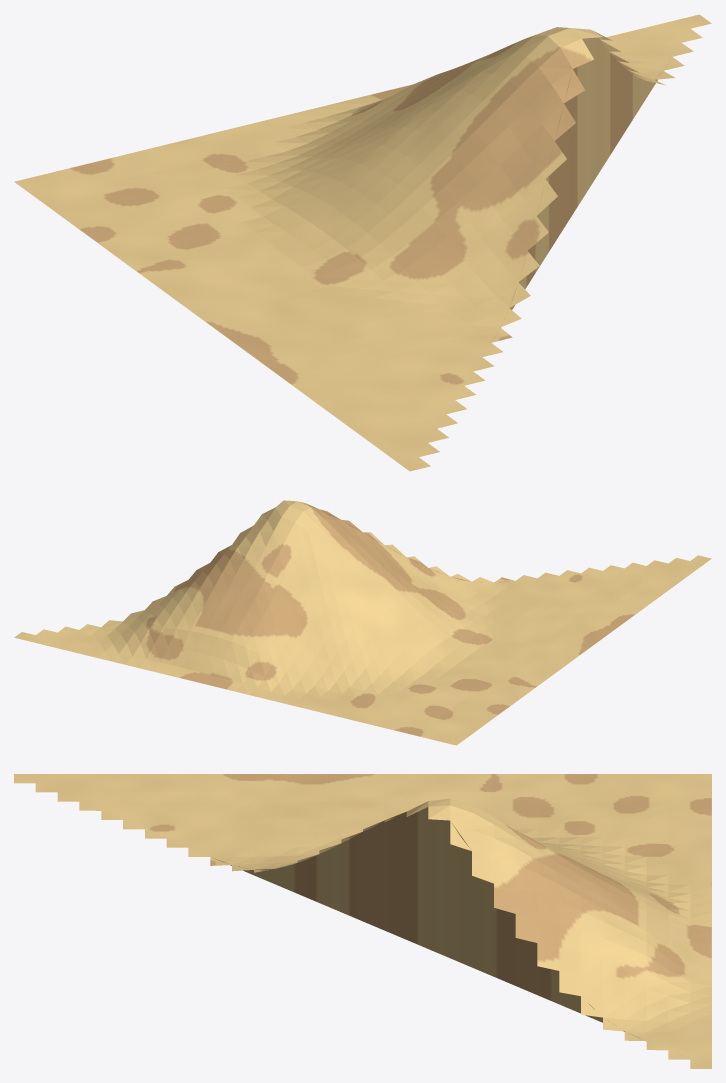
The model's file is Desert_Mountains_05_SW.obj.
The picture shows the model from 3 angles, top to bottom: view 1: azimuth 30°, elevation 25°; view 2: azimuth 150°, elevation 25°; view 3: azimuth 270°, elevation 25°; orthographic projection. The views are drawn at different scales.
Size of the model in its own units: 10 by 2.27 by 10.
1 material, 1 textured.
